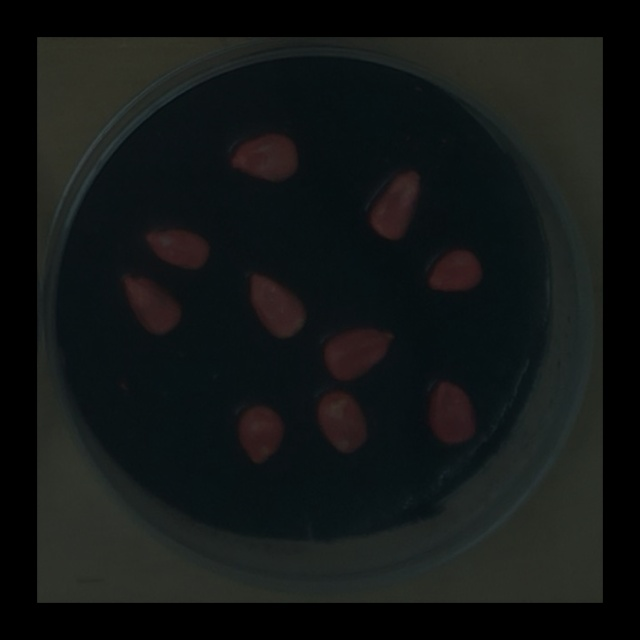Zea mays: (315, 320, 401, 388), (240, 264, 312, 345), (114, 268, 187, 341), (362, 164, 426, 247), (222, 127, 305, 190), (419, 373, 485, 449), (312, 385, 373, 462), (138, 221, 215, 277), (232, 396, 290, 470), (420, 242, 489, 297)
